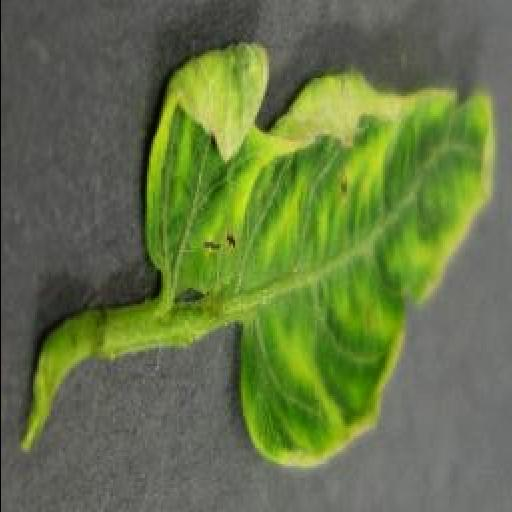disease_tomato: (144, 40, 498, 468)
